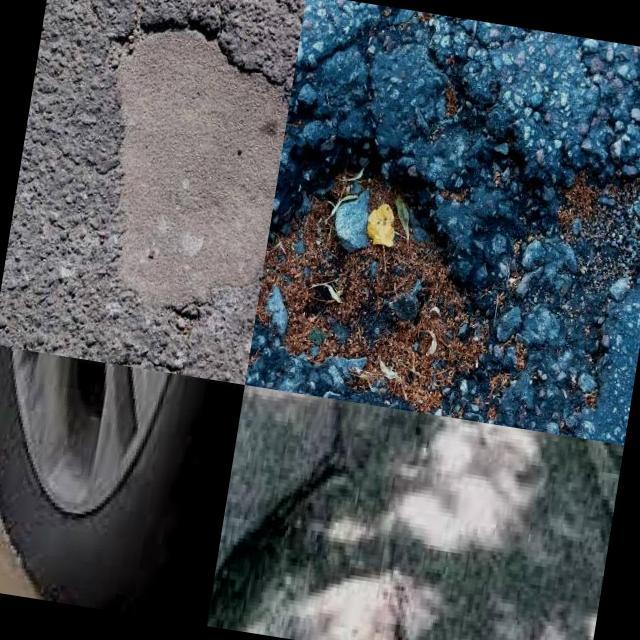Pothole: (245, 6, 640, 437), (207, 401, 550, 640), (113, 19, 291, 320)
